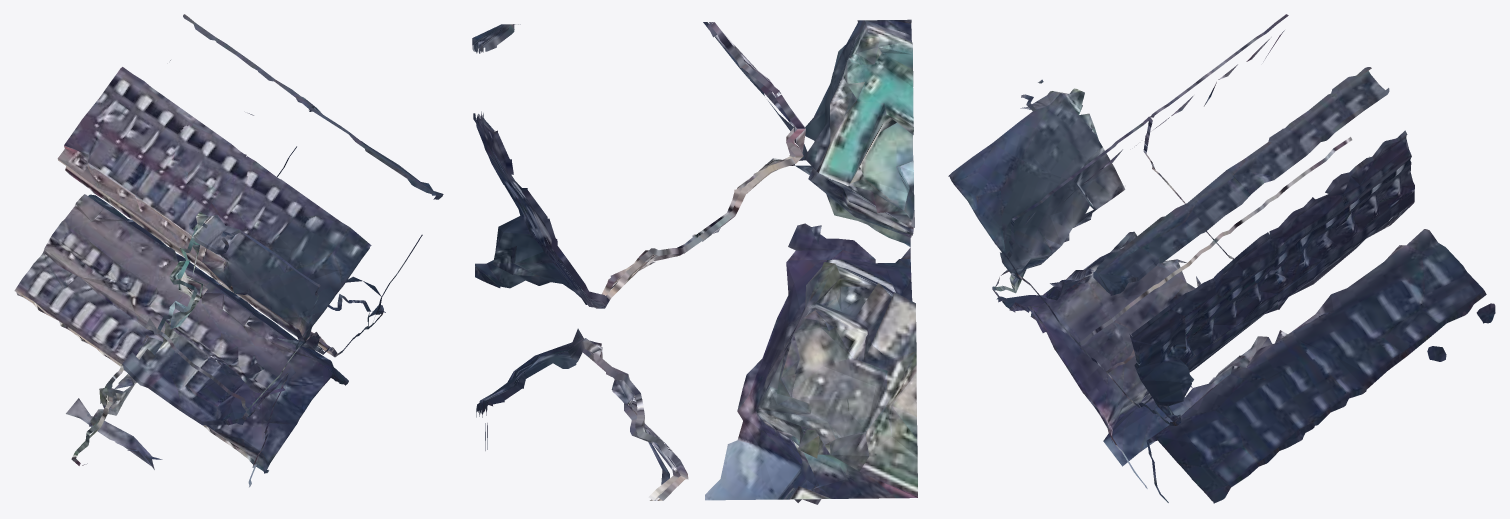
3 renders of one model, left to right at view 1: azimuth 30°, elevation 25°; view 2: azimuth 150°, elevation 25°; view 3: azimuth 270°, elevation 25°, orthographic. The views are drawn at different scales.
Bounding box in the file's own units: 45.4 × 50.27 × 56.54.
2 materials, 2 textured.
